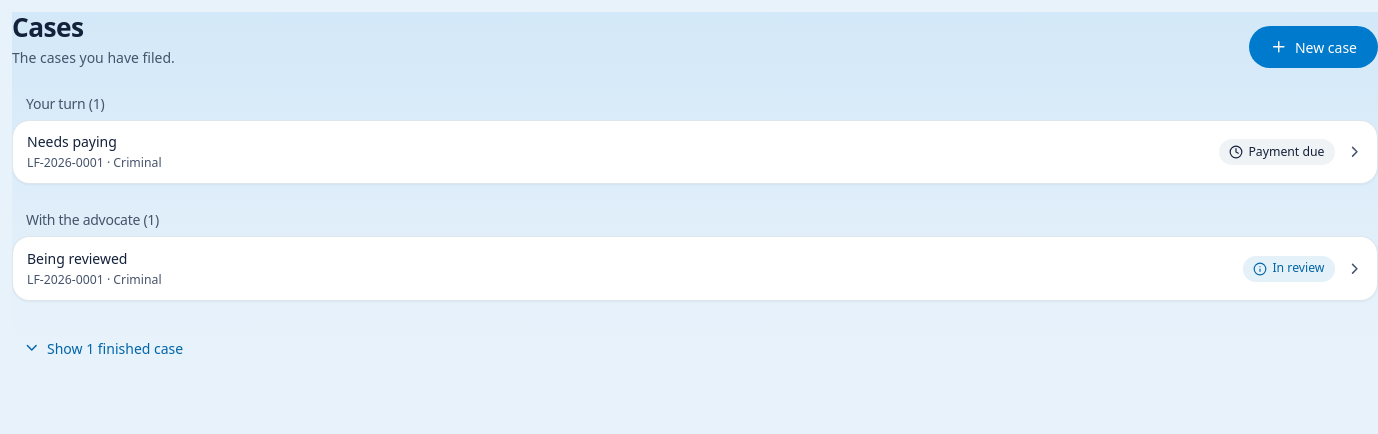
it: DashboardPage states › groups cases by whose turn it is, with finished ones tucked away
Expected: the heading "Your turn (1)" is shown, left=26, top=94, right=104, bottom=113
Expected: the heading "With the advocate (1)" is shown, left=26, top=210, right=159, bottom=230
Click the button "Show 1 finished case": coordinates (103, 348) left=12, top=329, right=194, bottom=367
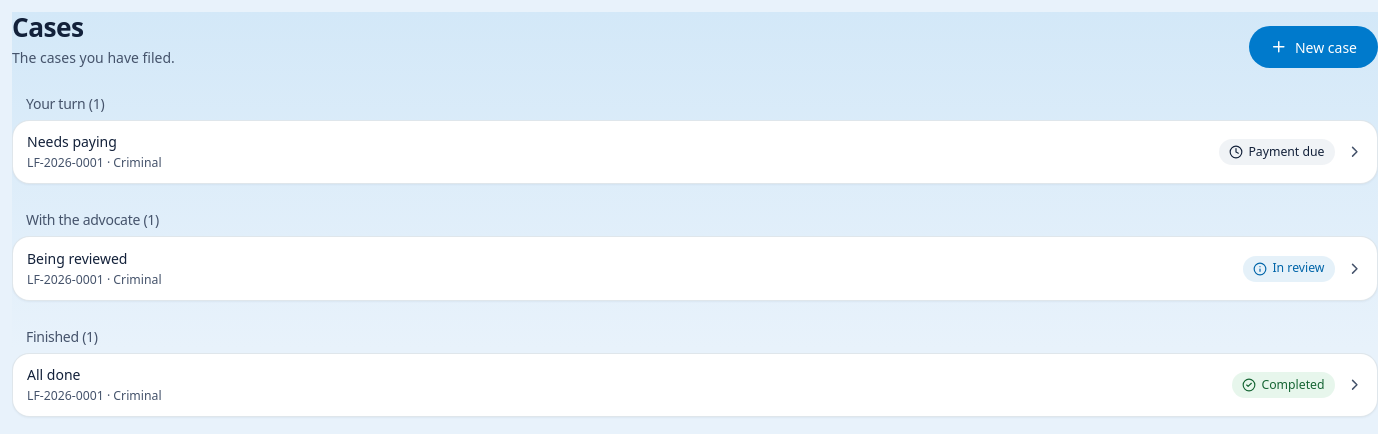
Result: the text "All done" is shown at left=27, top=365, right=80, bottom=384
